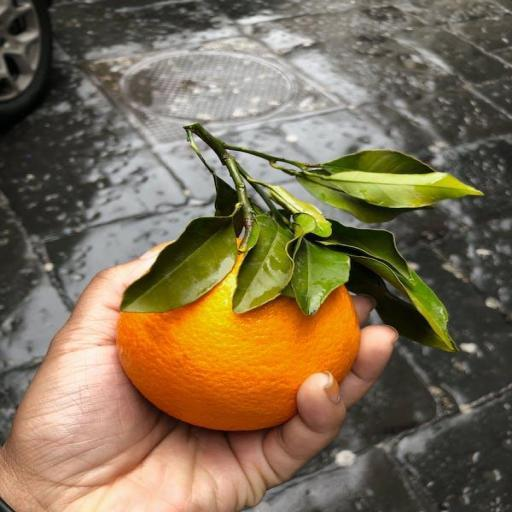orange: (117, 256, 359, 430)
